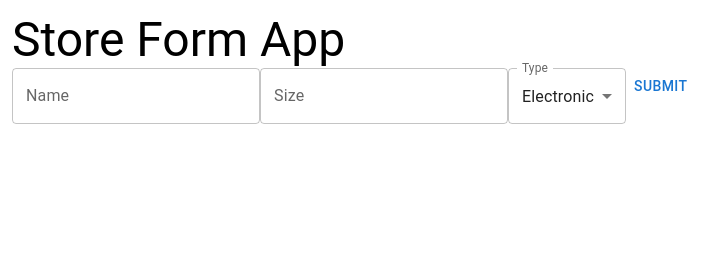
Test: Create product page › the type select should contain the options electronic, furniture and clothing
What coordinates should you click on to do the following:
click the dropdown named "type"
I would click on:
 (558, 96)
Its box is [522,86,594,106].
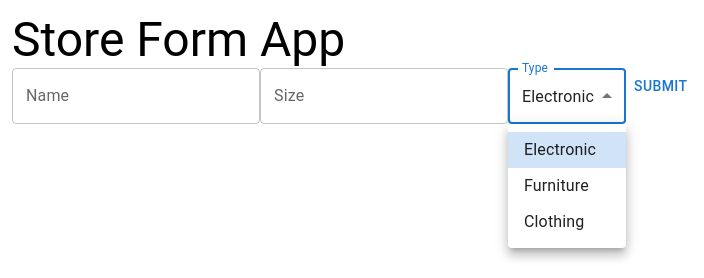
Expected: the option "Electronic" is shown, [508,132,626,168]
Expected: the option "Furniture" is shown, [524,176,589,195]
Expected: the option "Clothing" is shown, [524,212,584,231]
